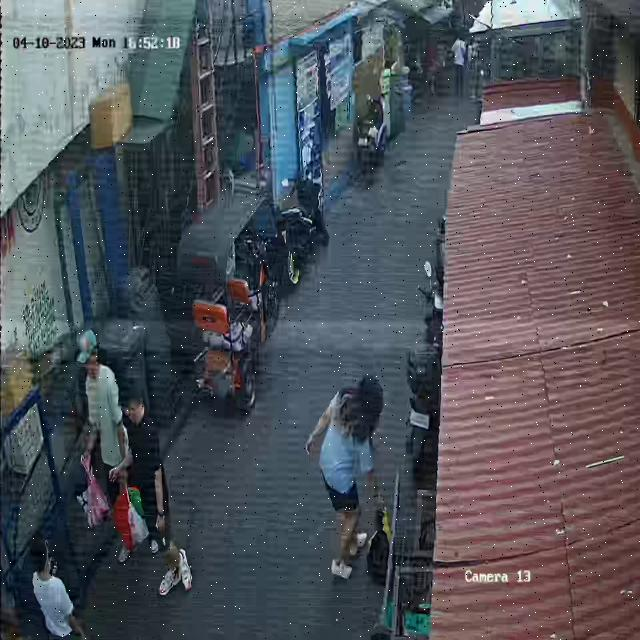garbage_dumping: (111, 476, 146, 553), (365, 489, 392, 582), (75, 461, 107, 534)
